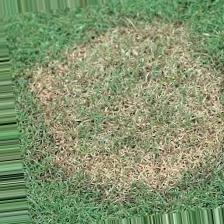patch: (59, 66, 194, 168)
